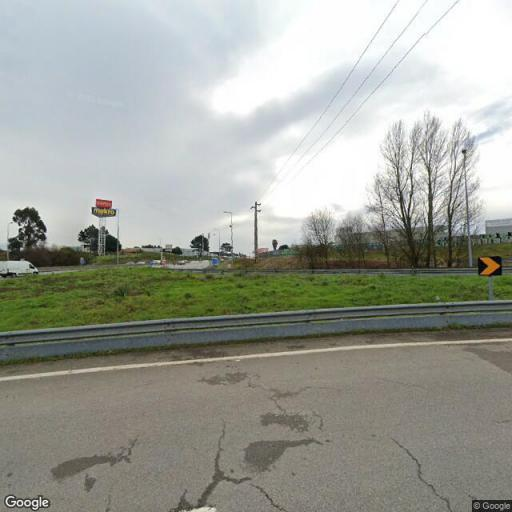mono_10: (250, 199, 262, 260)
